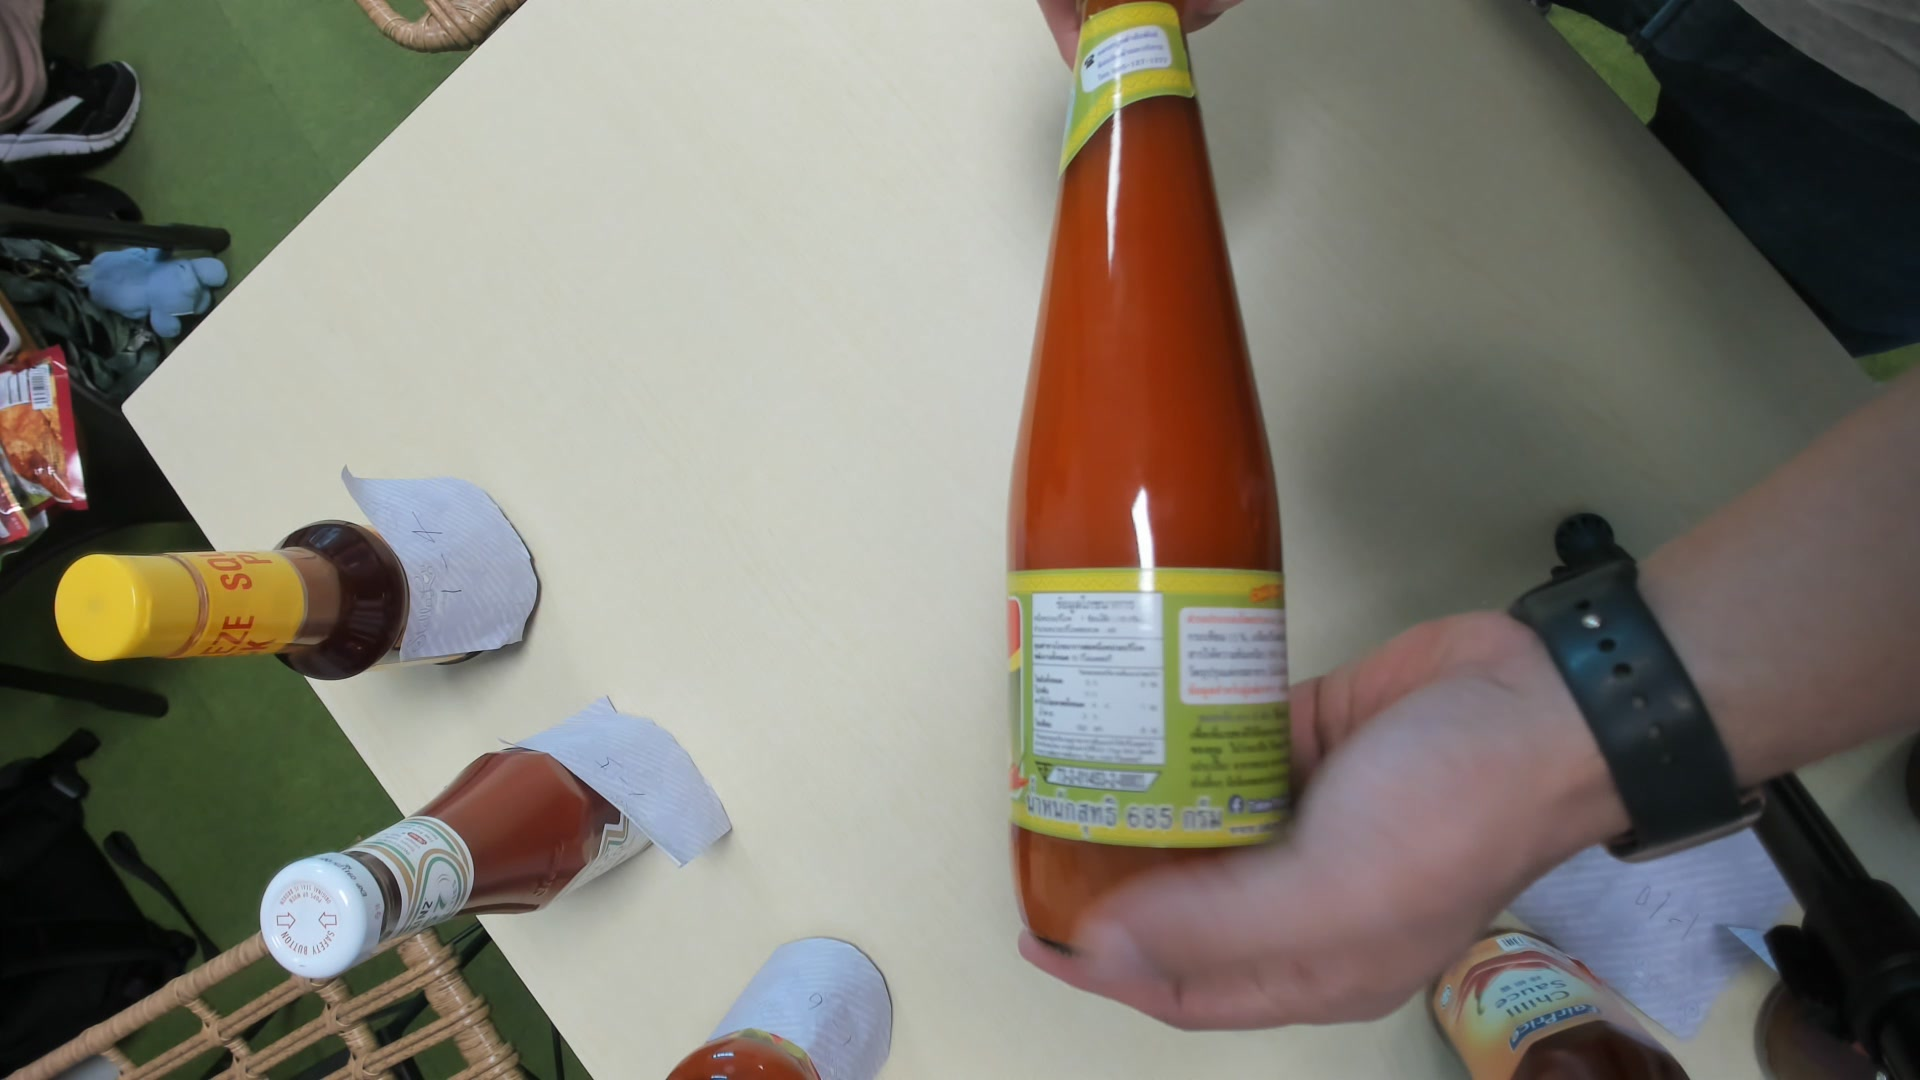KetchupChillSauce_600-699g_Halal_NonHealthy: (1011, 1, 1294, 963)
